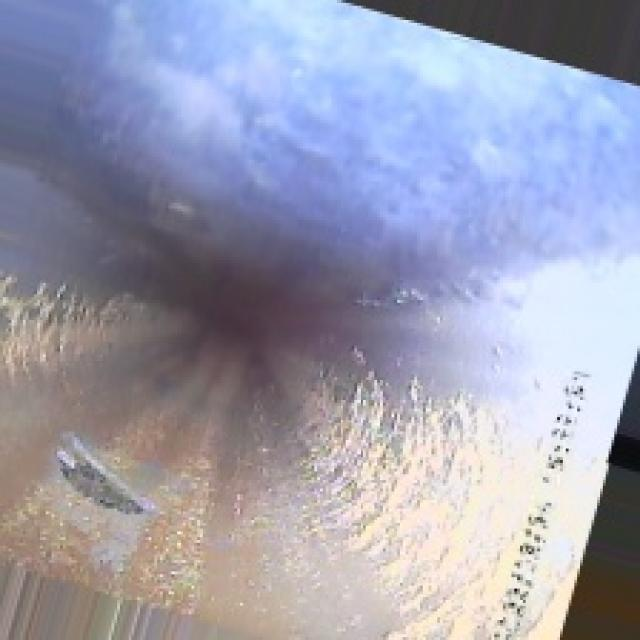pipe_surface_damage: (46, 434, 143, 514)
